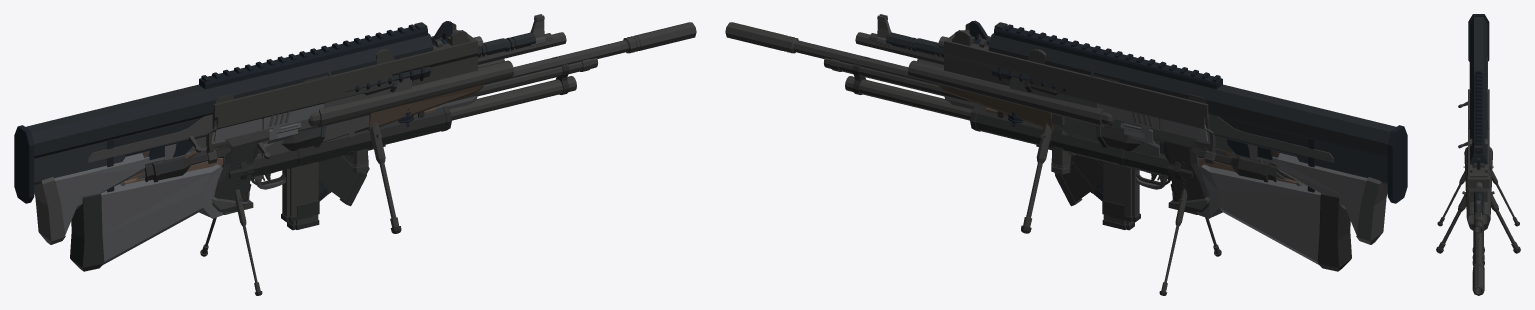
Rendered from riftfire_guns.glb.
The picture shows the model from 3 angles, left to right: view 1: azimuth 30°, elevation 25°; view 2: azimuth 150°, elevation 25°; view 3: azimuth 270°, elevation 25°; orthographic projection. The views are drawn at different scales.
Visible parts, largest first — view 1: Bullpup_1, SniperRifle_2, SubmachineGun_5, SniperRifle_5, Shotgun_SawedOff, Shotgun_2, Pistol_6, SubmachineGun_3, SubmachineGun_2, Silencer_long, AssaultRifle2_1, Scope_2 (+6 smaller); view 2: Bullpup_1, SniperRifle_2, SubmachineGun_5, SniperRifle_5, Shotgun_SawedOff, Shotgun_2, SubmachineGun_3, Pistol_6, SubmachineGun_2, Silencer_long, Scope_2, AssaultRifle2_2 (+7 smaller); view 3: Bullpup_1, SubmachineGun_5, SniperRifle_5, SniperRifle_2, Shotgun_SawedOff, Bipod, AssaultRifle2_1, Shotgun_2, AssaultRifle_5, AssaultRifle2_2, AssaultRifle_4.
Part boxes in pixels (x1,y1,x2,y2): Bullpup_1: (14,22,448,203); SniperRifle_2: (70,22,696,271); SubmachineGun_5: (88,23,489,219); SniperRifle_5: (34,32,566,244); Shotgun_SawedOff: (257,59,514,173); Shotgun_2: (120,56,597,189); Pistol_6: (211,77,411,211); SubmachineGun_3: (206,74,394,222); SubmachineGun_2: (88,49,400,230); Silencer_long: (240,106,451,179); AssaultRifle2_1: (108,21,535,201); Scope_2: (152,125,326,182); Bullpup_1: (973,22,1407,203); SniperRifle_2: (725,22,1351,271); SubmachineGun_5: (932,23,1333,219); SniperRifle_5: (855,32,1387,244); Shotgun_SawedOff: (907,59,1164,173); Shotgun_2: (824,56,1302,189); SubmachineGun_3: (1027,74,1215,222); Pistol_6: (1010,77,1210,211); SubmachineGun_2: (1021,49,1333,230); Silencer_long: (970,106,1181,179); Scope_2: (1095,125,1269,182); AssaultRifle2_2: (914,38,1314,200); Bullpup_1: (1468,14,1489,164); SubmachineGun_5: (1468,87,1489,201); SniperRifle_5: (1436,57,1520,253); SniperRifle_2: (1458,88,1490,295); Shotgun_SawedOff: (1464,147,1492,224); Bipod: (1437,166,1519,226); AssaultRifle2_1: (1467,147,1490,215); Shotgun_2: (1472,224,1484,266); AssaultRifle_5: (1474,182,1482,222); AssaultRifle2_2: (1473,150,1483,203); AssaultRifle_4: (1474,186,1482,226).
Size of the model in its own units: 8.07 by 2.36 by 1.25.
